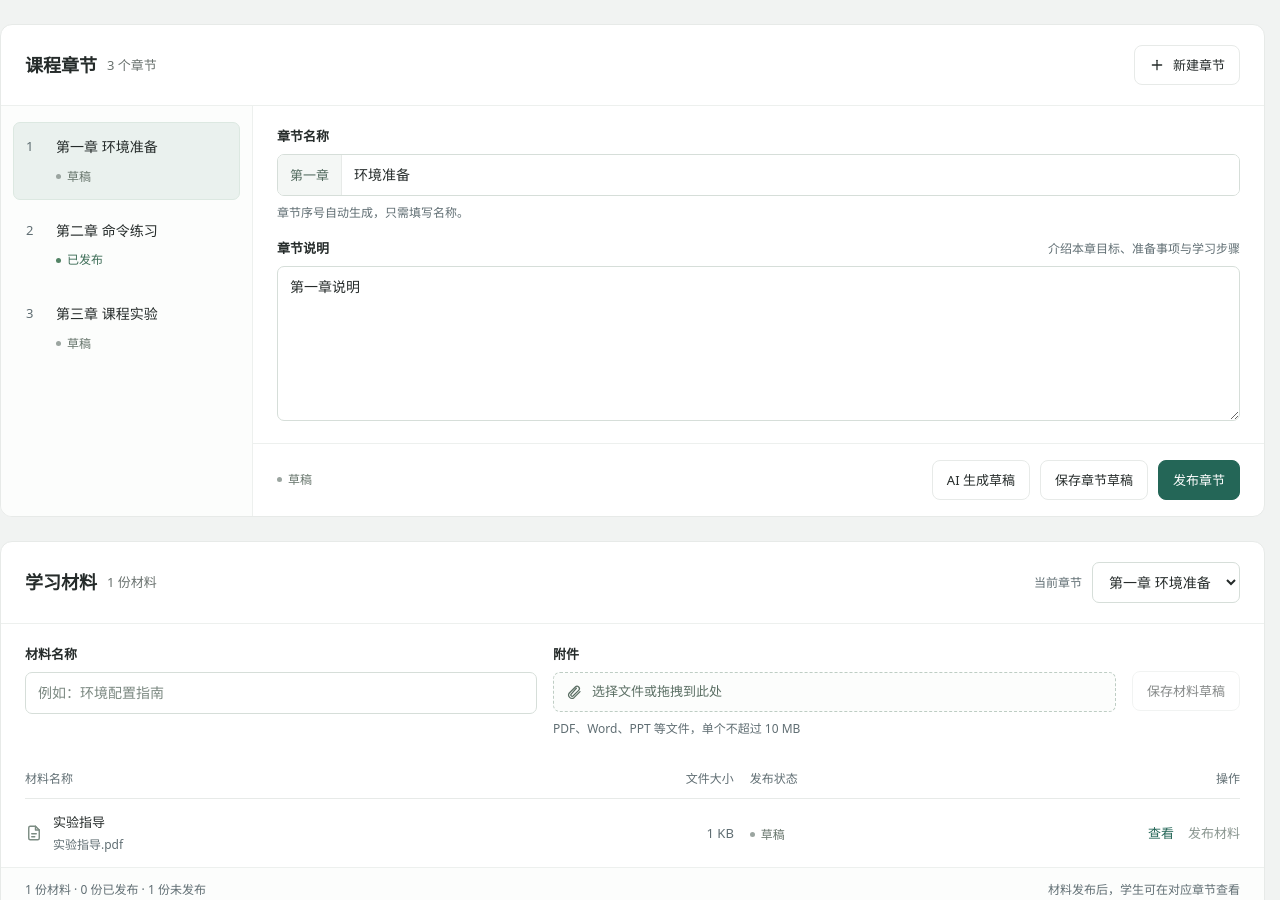
Test case: keeps teacher text until an AI draft is explicitly adopted
Expected: the button "1 第一章 环境准备 草稿" is shown, x1=13 y1=122 x2=240 y2=200
Expected: the field labelled "章节名称" holds "环境准备", x1=342 y1=155 x2=1239 y2=195
Click the button "AI 生成草稿". click: (981, 480)
box: x1=932 y1=460 x2=1030 y2=500
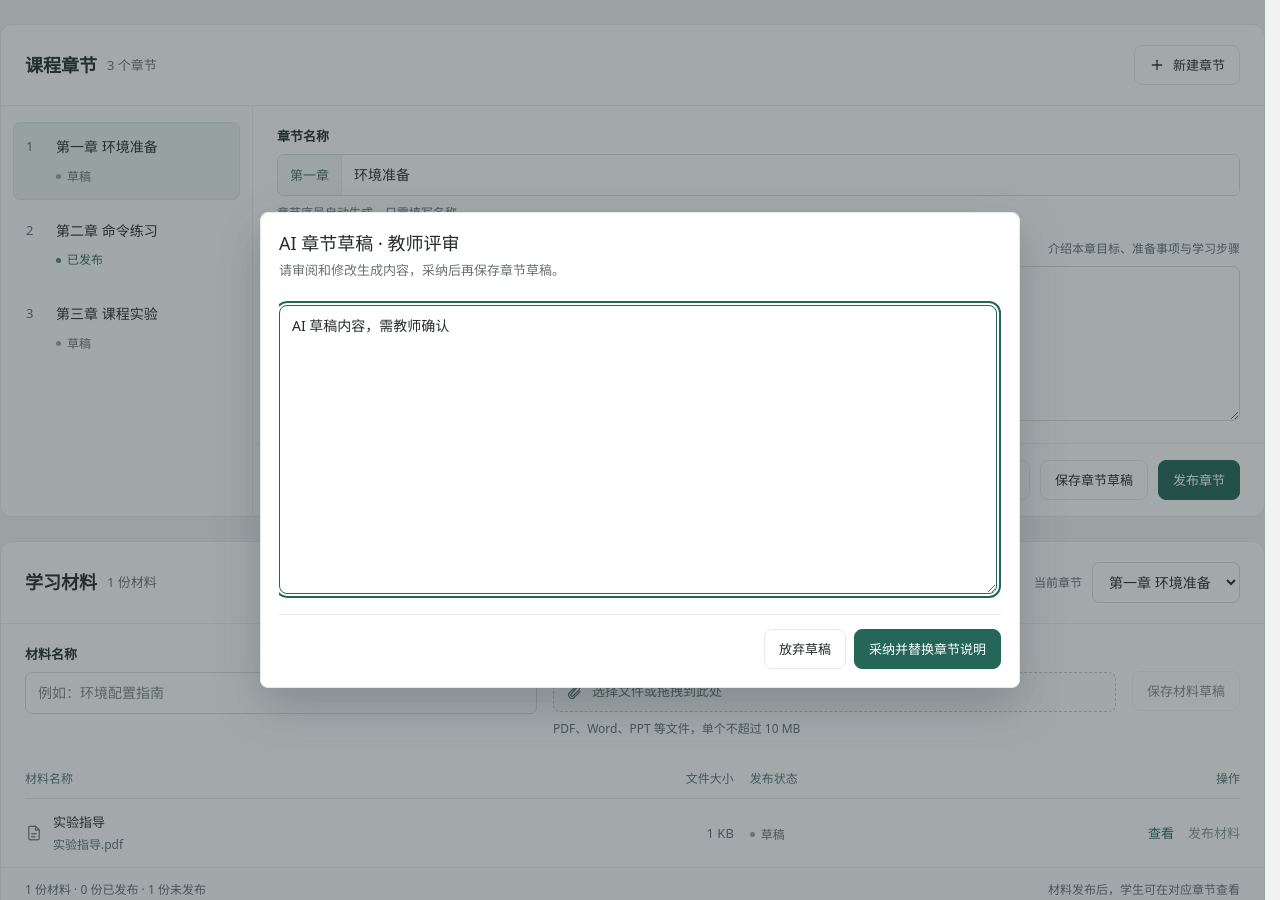
Expected: the text box labelled "章节说明 介绍本章目标、准备事项与学习步骤" holds "第一章说明", x1=277 y1=266 x2=1240 y2=420
Replace the text in the text box named "AI 章节草稿" with "教师评审后的内容". click: (638, 449)
box: x1=279 y1=305 x2=997 y2=594
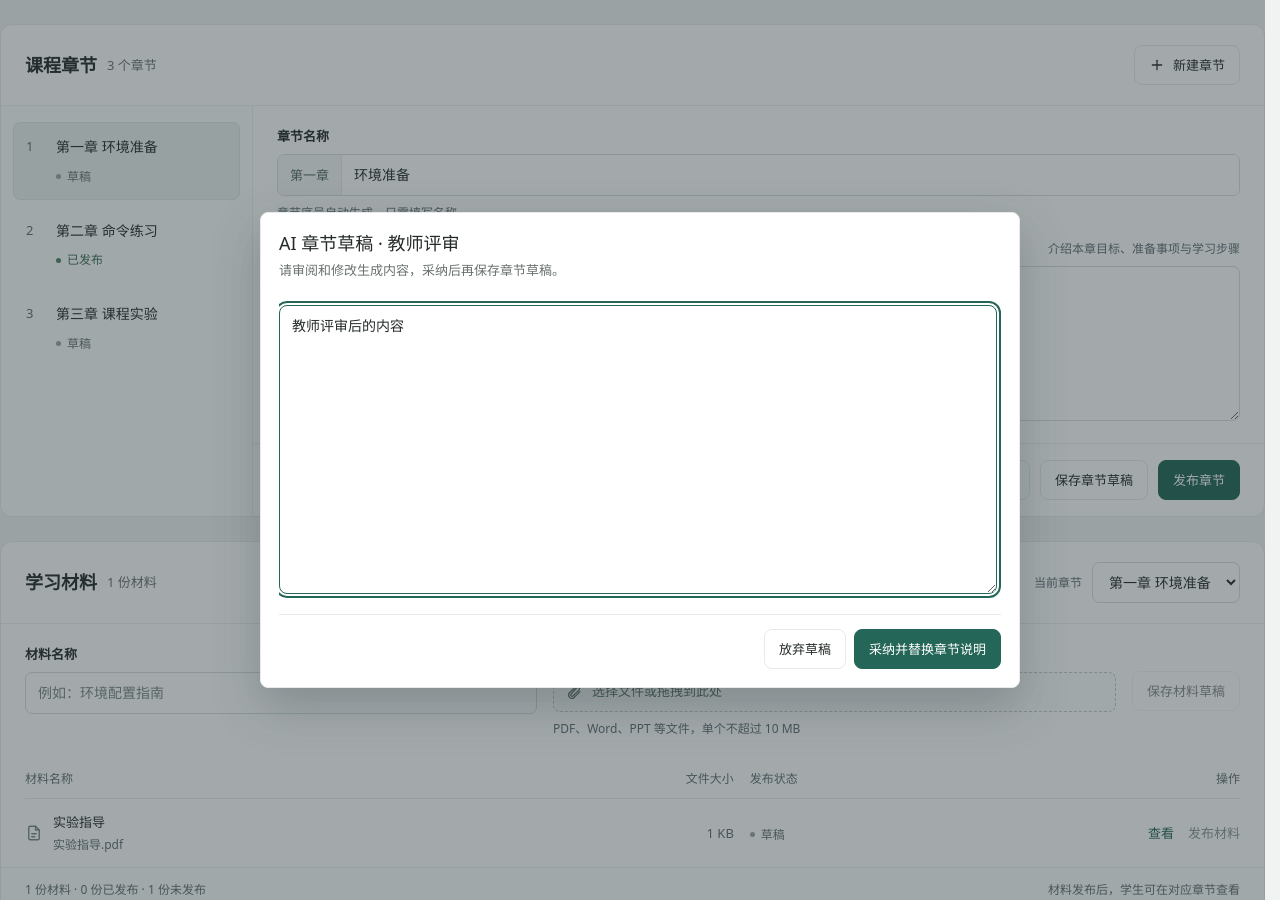
Click the button "采纳并替换章节说明". click: (928, 649)
box: x1=854 y1=629 x2=1001 y2=669
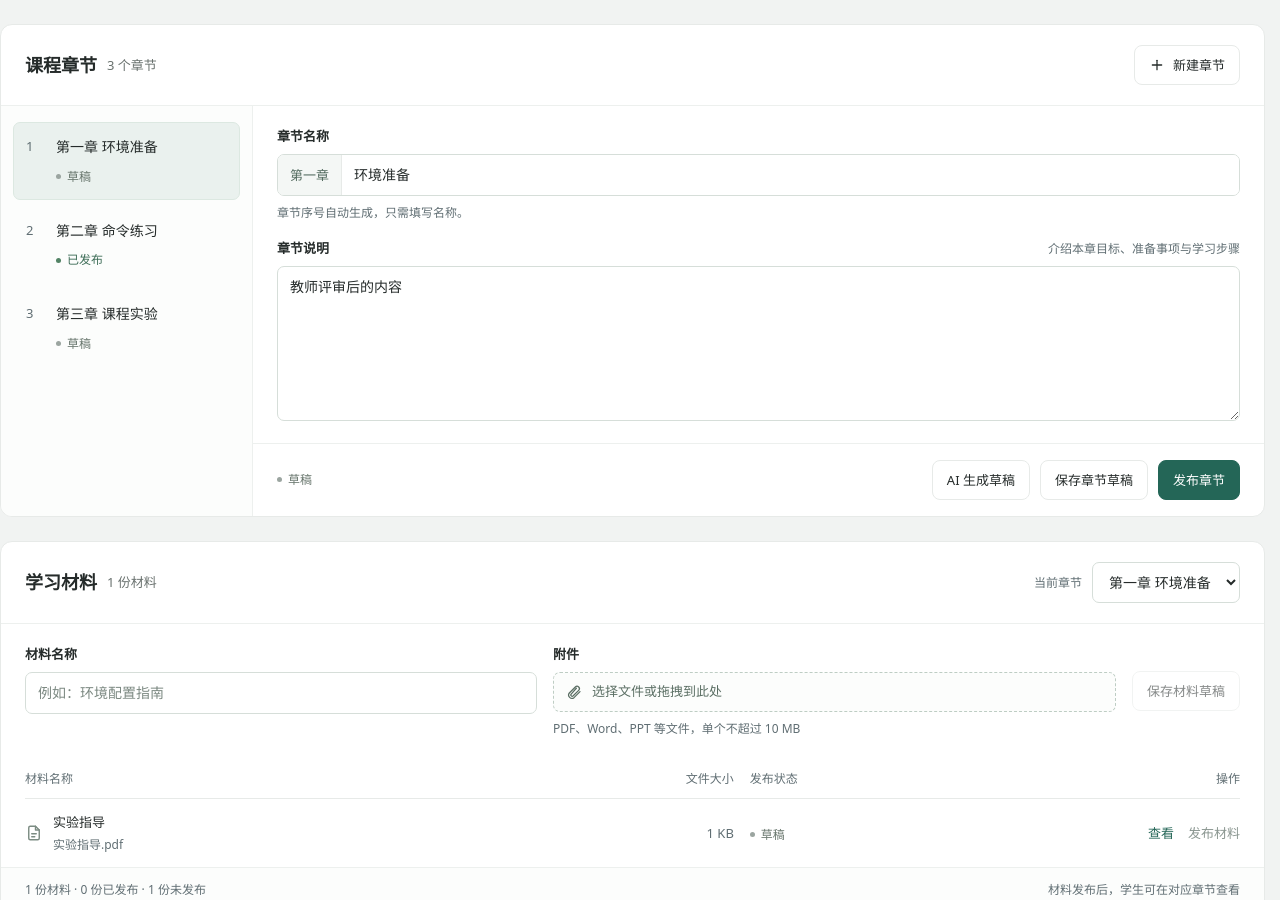
Expected: the text box labelled "章节说明 介绍本章目标、准备事项与学习步骤" holds "教师评审后的内容", x1=277 y1=266 x2=1240 y2=420
